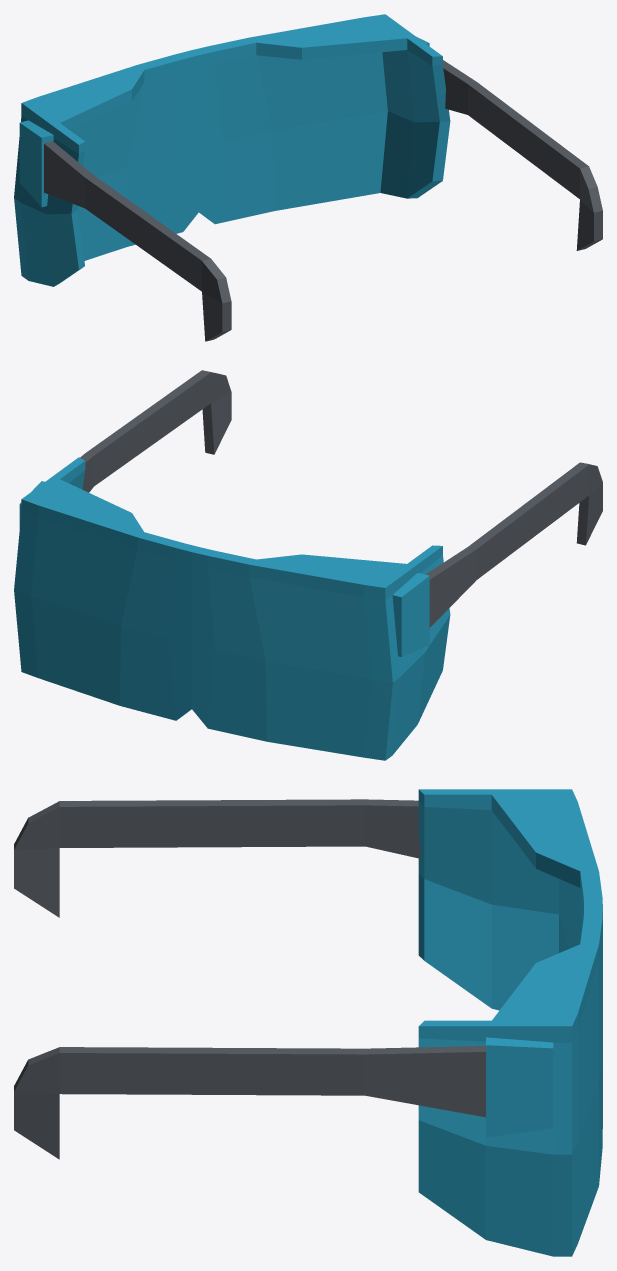
File: lab-glasses.glb
3 views of the same model, one above another, from view 1: azimuth 30°, elevation 25°; view 2: azimuth 150°, elevation 25°; view 3: azimuth 270°, elevation 25° (orthographic). The views are drawn at different scales.
Visible parts, largest first — view 1: ppe_safety_glasses; view 2: ppe_safety_glasses; view 3: ppe_safety_glasses.
Boxes of the visible parts, x1,y1,x2,y2 form: ppe_safety_glasses: (14, 14, 602, 341); ppe_safety_glasses: (14, 370, 602, 760); ppe_safety_glasses: (14, 789, 602, 1256).
Bounding box in the file's own units: 17.97 × 7.57 × 17.53.
2 materials, 2 textured.
